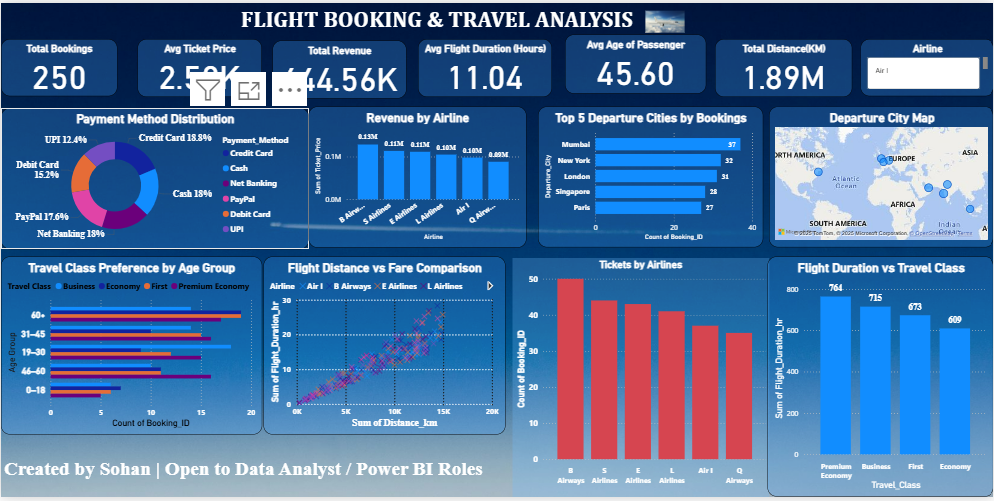

The dashboard page shown, as its layout file describes it:
{"tool":"powerbi","page":{"name":"Page 1","canvas":[1655,823],"ordinal":0},"visuals":[{"type":"textbox","box":[171.7,0,1108.3,60],"z":0},{"type":"card","title":"Total Bookings","fields":{"Values":["Count(flight_bookings_sample.Booking_ID)"]},"box":[0,60.5,193.8,95.1],"z":1000},{"type":"card","title":"Total Revenue","fields":{"Values":["Sum(flight_bookings_sample.Ticket_Price)"]},"box":[451.5,62.3,223.2,96.9],"z":2000},{"type":"card","title":"Avg Flight Duration (Hours)","fields":{"Values":["Avg(flight_bookings_sample.Flight_Duration_hr)"]},"box":[695.5,60.5,223.2,96.9],"z":3000},{"type":"card","title":"Avg Age of Passenger","fields":{"Values":["Avg(flight_bookings_sample.Passenger_Age)"]},"box":[939.4,53.6,235.3,98.6],"z":4000},{"type":"card","title":"Avg Ticket Price","fields":{"Values":["Avg(flight_bookings_sample.Ticket_Price)"]},"box":[226.6,60.5,207.6,96.9],"z":5000},{"type":"card","title":"Total Distance(KM)","fields":{"Values":["Sum(flight_bookings_sample.Distance_km)"]},"box":[1190.2,58.8,228.4,96.9],"z":6000},{"type":"donutChart","title":"Payment Method Distribution","fields":{"Category":["flight_bookings_sample.Payment_Method"],"Y":["CountNonNull(flight_bookings_sample.Booking_ID)"]},"box":[0,174.1,513.3,235.1],"z":7000},{"type":"clusteredBarChart","title":"Travel Class Preference by Age Group","fields":{"Category":["flight_bookings_sample.Age Group"],"Y":["CountNonNull(flight_bookings_sample.Booking_ID)"],"Series":["flight_bookings_sample.Travel_Class"]},"box":[0,423.3,435,296.7],"z":8000},{"type":"lineStackedColumnComboChart","title":"Tickets by Airlines","fields":{"Category":["flight_bookings_sample.Airline"],"Y":["CountNonNull(flight_bookings_sample.Booking_ID)"]},"box":[851.7,423.9,427.8,399],"z":9000},{"type":"image","box":[940,6.7,333.3,46.7],"z":10000},{"type":"advancedSlicerVisual","fields":{"Values":["flight_bookings_sample.Airline"]},"box":[1432.4,58.8,223.2,95.1],"z":11000},{"type":"clusteredColumnChart","title":"Revenue by Airline","fields":{"Category":["flight_bookings_sample.Airline"],"Y":["Sum(flight_bookings_sample.Ticket_Price)"]},"box":[513.3,173.3,363.3,235],"z":12000},{"type":"scatterChart","title":"Flight Distance vs Fare Comparison","fields":{"X":["Sum(flight_bookings_sample.Distance_km)"],"Y":["Sum(flight_bookings_sample.Flight_Duration_hr)"],"Category":["flight_bookings_sample.Booking_ID"],"Series":["flight_bookings_sample.Airline"]},"box":[438.3,423.3,403.3,296.7],"z":13000},{"type":"clusteredBarChart","title":"Top 5 Departure Cities by Bookings","fields":{"Y":["CountNonNull(flight_bookings_sample.Booking_ID)"],"Category":["flight_bookings_sample.Departure_City"]},"box":[896.2,171.5,375.6,234.8],"z":14000},{"type":"textbox","box":[0,751.9,1442.5,71],"z":15000},{"type":"columnChart","title":"Flight Duration vs Travel Class","fields":{"Category":["flight_bookings_sample.Travel_Class"],"Y":["Sum(flight_bookings_sample.Flight_Duration_hr)"]},"box":[1278,422.6,377.7,400.1],"z":16000},{"type":"map","title":"Departure City Map","fields":{"Category":["flight_bookings_sample.Departure_City"],"Size":["Count(flight_bookings_sample.Booking_ID)"]},"box":[1280.1,173.5,375.6,234.8],"z":17000}]}

Visuals, with their boxes on the page's 1655x823 design canvas (x1, y1, x2, y2). These are canvas units, not pixel positions in the 994x501 screenshot, which may show the page scaled, cropped or inside an application window:
textbox: (172, 0, 1280, 60)
"Total Bookings" card: (0, 60, 194, 156)
"Total Revenue" card: (452, 62, 675, 159)
"Avg Flight Duration (Hours)" card: (696, 60, 919, 157)
"Avg Age of Passenger" card: (939, 54, 1175, 152)
"Avg Ticket Price" card: (227, 60, 434, 157)
"Total Distance(KM)" card: (1190, 59, 1419, 156)
"Payment Method Distribution" donutChart: (0, 174, 513, 409)
"Travel Class Preference by Age Group" clusteredBarChart: (0, 423, 435, 720)
"Tickets by Airlines" lineStackedColumnComboChart: (852, 424, 1280, 823)
image: (940, 7, 1273, 53)
advancedSlicerVisual - flight_bookings_sample.Airline: (1432, 59, 1656, 154)
"Revenue by Airline" clusteredColumnChart: (513, 173, 877, 408)
"Flight Distance vs Fare Comparison" scatterChart: (438, 423, 842, 720)
"Top 5 Departure Cities by Bookings" clusteredBarChart: (896, 172, 1272, 406)
textbox: (0, 752, 1442, 823)
"Flight Duration vs Travel Class" columnChart: (1278, 423, 1656, 823)
"Departure City Map" map: (1280, 174, 1656, 408)
